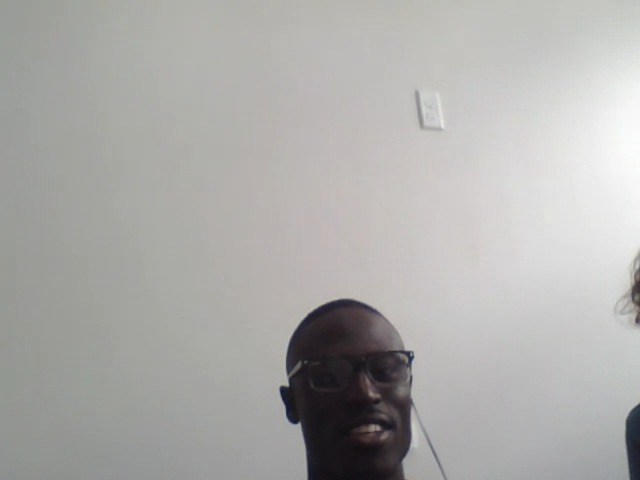face: (284, 316, 421, 478)
